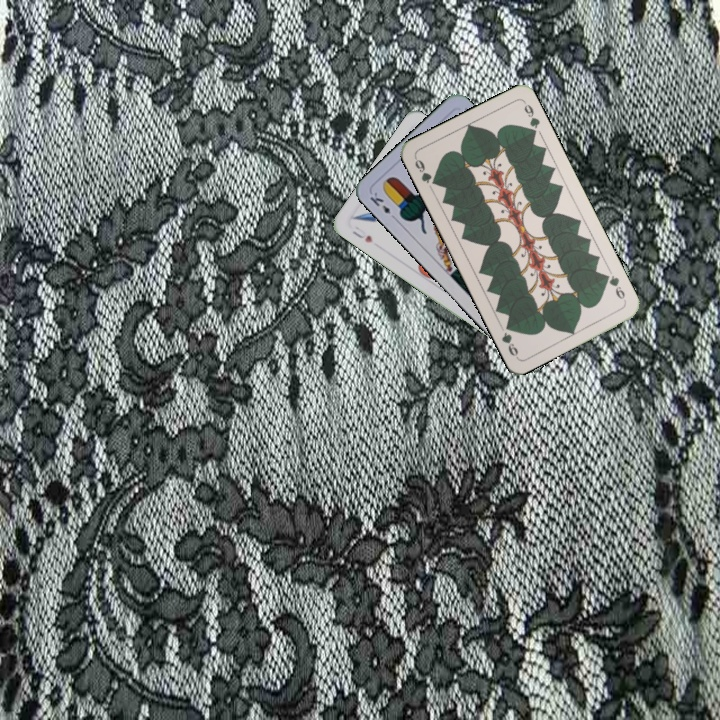EK: (365, 188, 399, 223)
G9: (411, 153, 440, 188), (600, 270, 629, 304)
HU: (348, 226, 376, 245)
